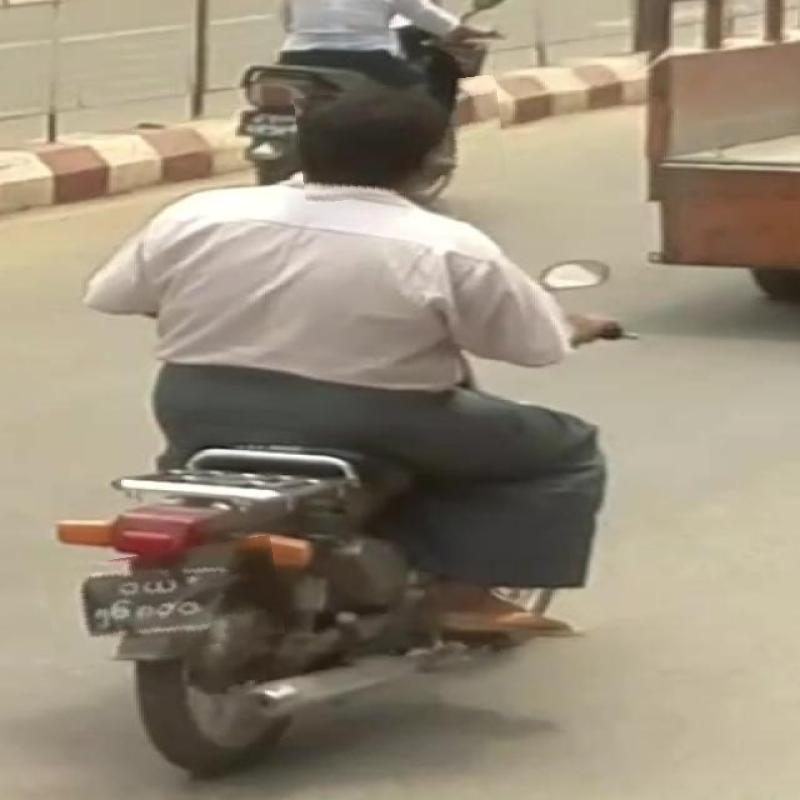nohelmet: (47, 544, 282, 661), (296, 80, 504, 199)
